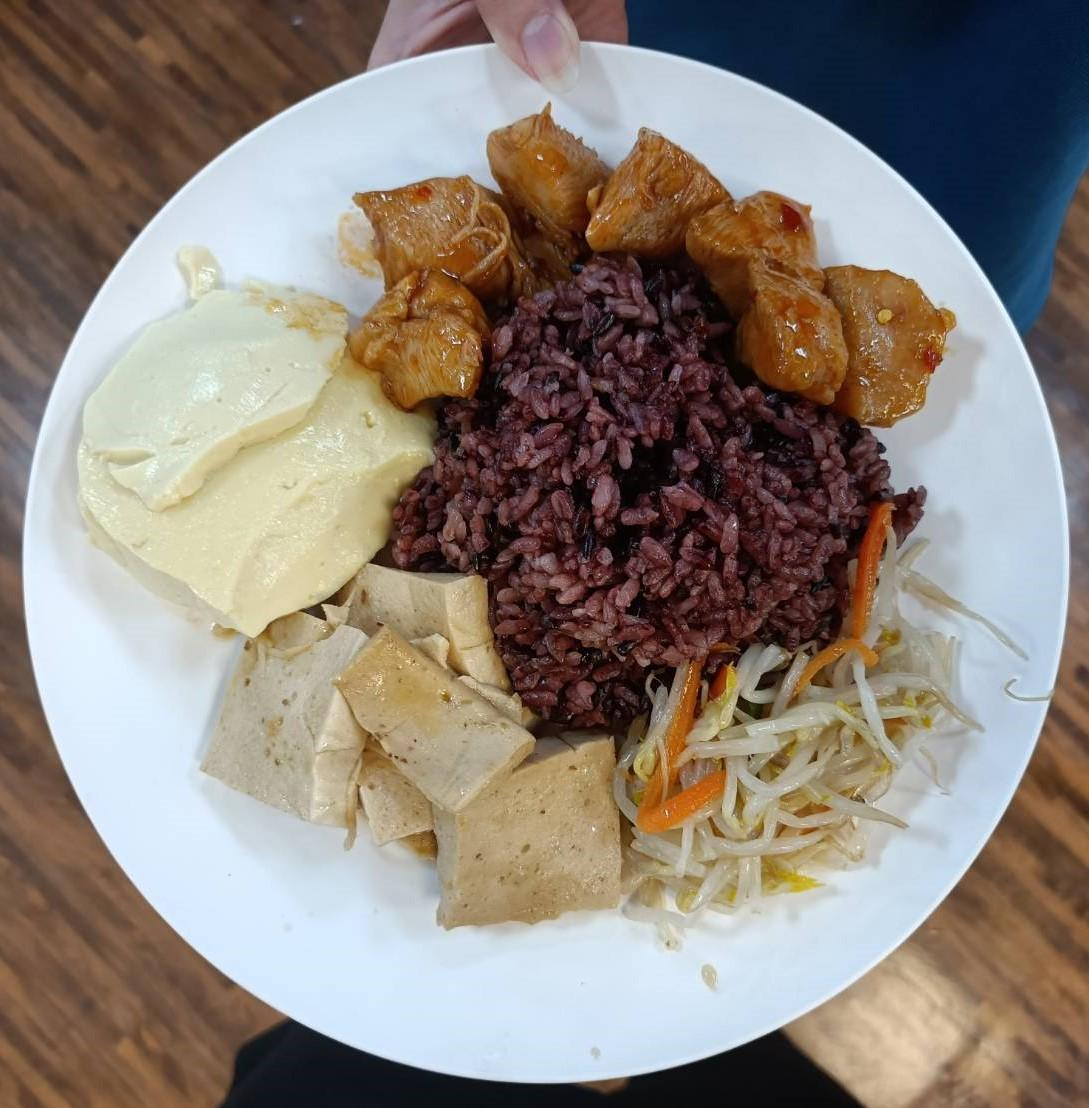big fried chicken leg: (18, 28, 1082, 1081)
braised fish: (354, 226, 891, 726)
braised fish fillet: (192, 544, 625, 945), (572, 560, 970, 919), (65, 264, 436, 629)
braised pork: (326, 116, 940, 406)
